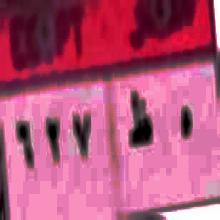2: (46, 112, 62, 164)
6: (16, 118, 36, 178)
7: (68, 106, 95, 167)
Thaa: (127, 88, 154, 152)
haa: (178, 102, 194, 150)
